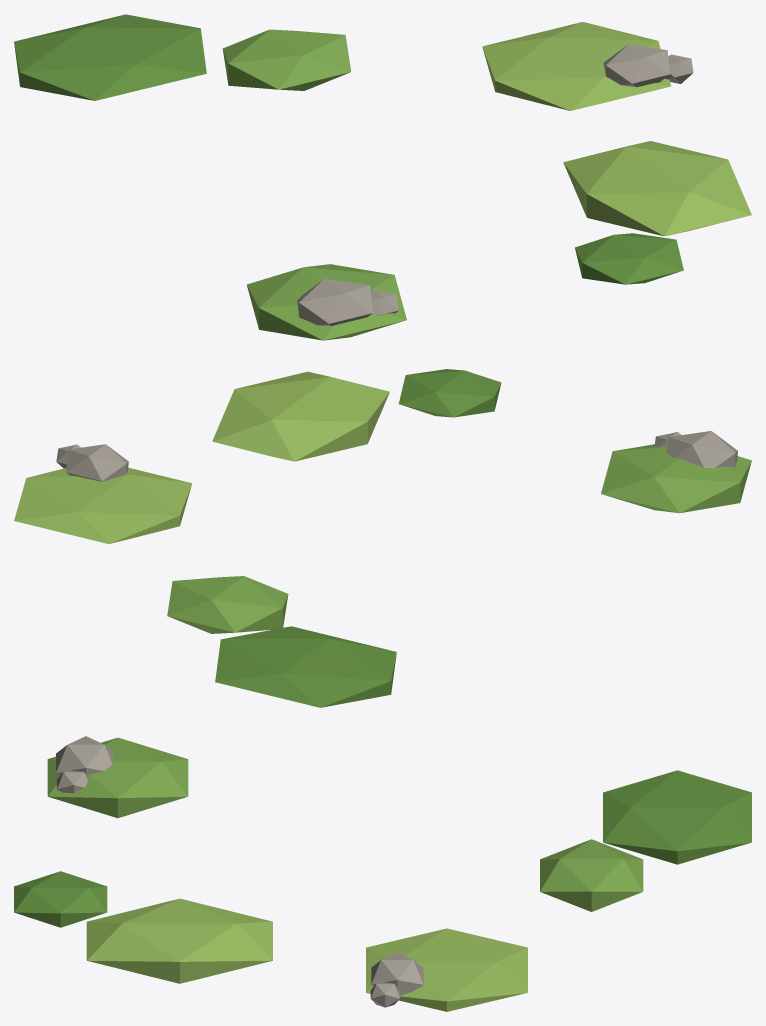
Rendered from Kir_cimen_kayalik_6_Hafif.fbx.
3 views of the same model, one above another, from view 1: azimuth 30°, elevation 25°; view 2: azimuth 150°, elevation 25°; view 3: azimuth 270°, elevation 25° (orthographic). The views are drawn at different scales.
Visible parts, largest first — view 1: Kir_cimen_kayalik_6_Hafif; view 2: Kir_cimen_kayalik_6_Hafif; view 3: Kir_cimen_kayalik_6_Hafif.
Part boxes in pixels (x1=…): Kir_cimen_kayalik_6_Hafif: x1=14, y1=14, x2=751, y2=340; Kir_cimen_kayalik_6_Hafif: x1=14, y1=369, x2=751, y2=707; Kir_cimen_kayalik_6_Hafif: x1=14, y1=736, x2=751, y2=1011.
Bounding box in the file's own units: 15.35 × 1.29 × 18.47.
